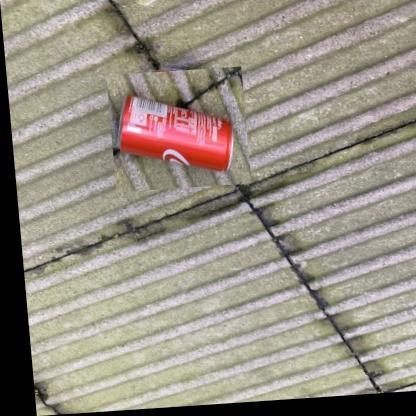trash: (120, 96, 232, 170)
